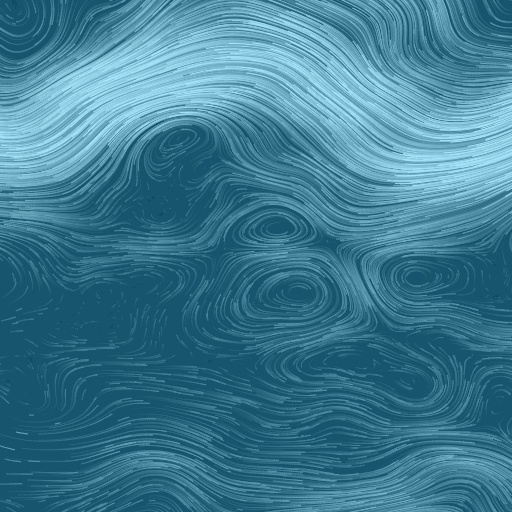eddy: (232, 257, 354, 330), (316, 342, 431, 406), (376, 252, 464, 307), (141, 118, 208, 176), (235, 205, 316, 248)
